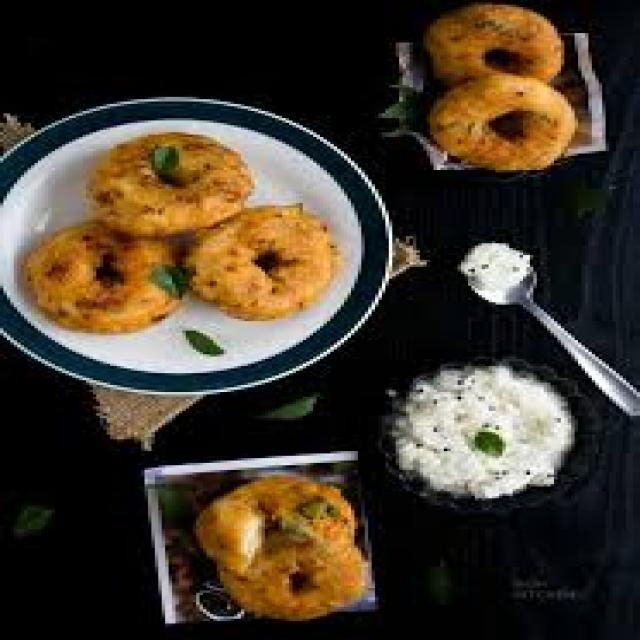MEDU VADA: (84, 135, 251, 237), (186, 203, 334, 317), (30, 225, 183, 330), (201, 475, 351, 570), (438, 75, 571, 166), (221, 542, 363, 619), (430, 0, 563, 82)
